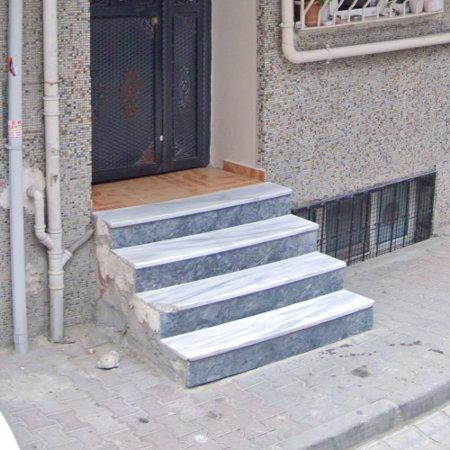stairs: (94, 183, 374, 388)
